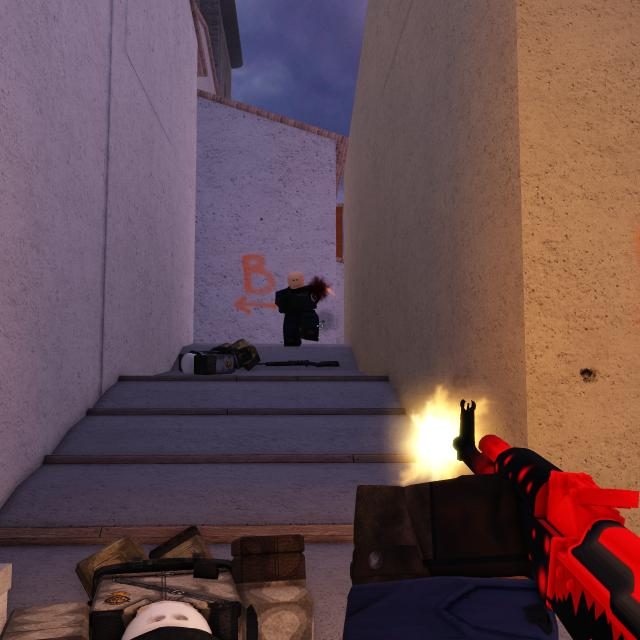Head: (287, 271, 304, 289)
Player: (275, 271, 324, 346)
